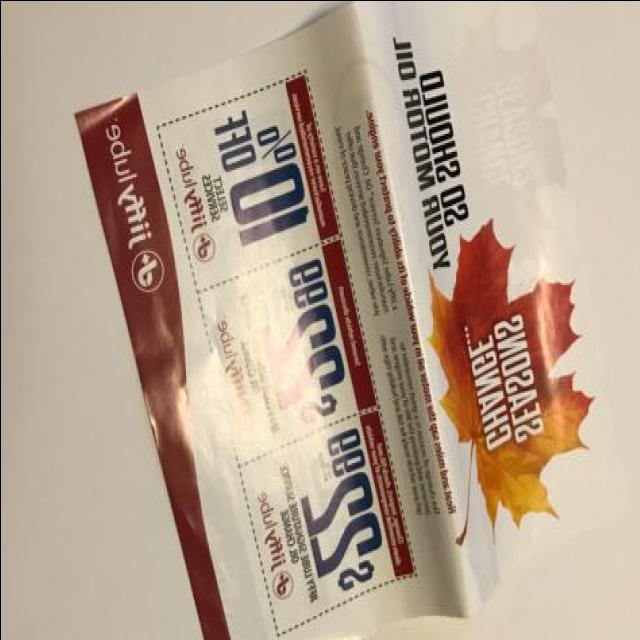kertas: (72, 0, 632, 640)
